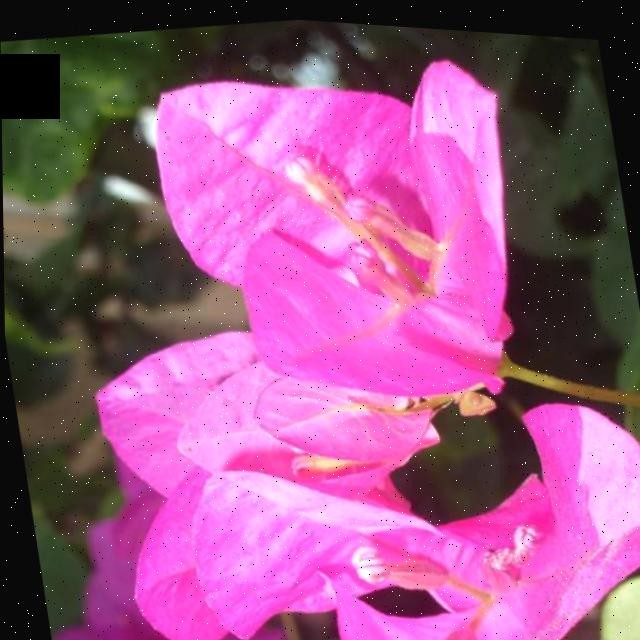bougainvillea: (92, 5, 583, 475), (43, 291, 483, 640), (295, 342, 640, 640)
